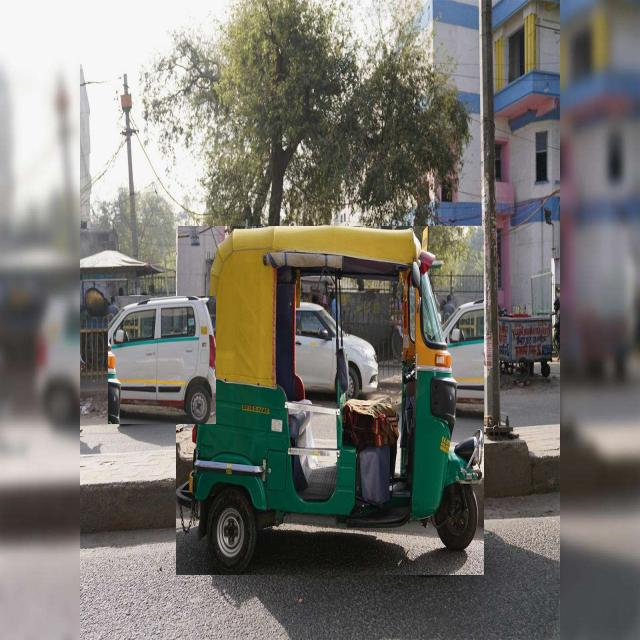autorickshaw: (176, 226, 484, 575)
car: (108, 296, 216, 424), (324, 304, 365, 391), (281, 333, 316, 398)
